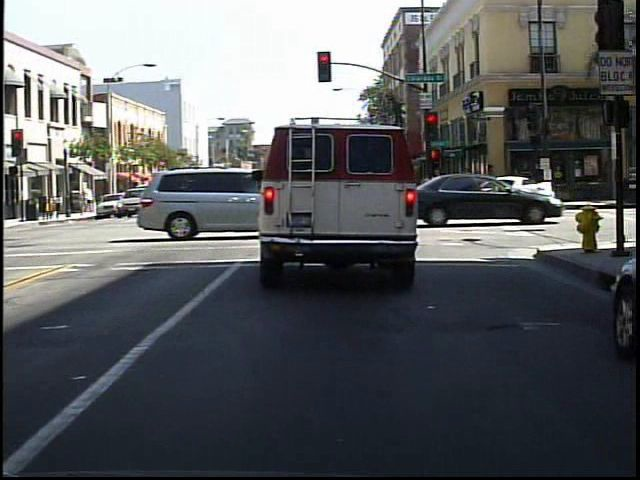person: (527, 158, 547, 208), (507, 162, 528, 206)
